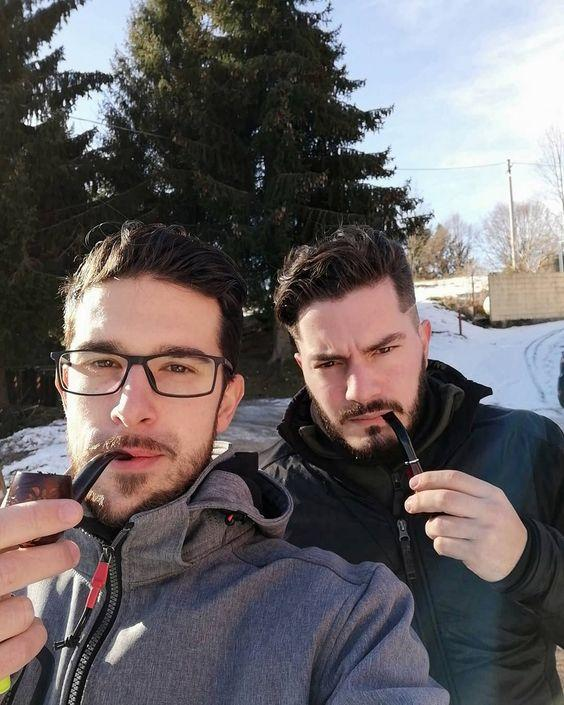trubka: (5, 450, 133, 549), (380, 410, 424, 481)
